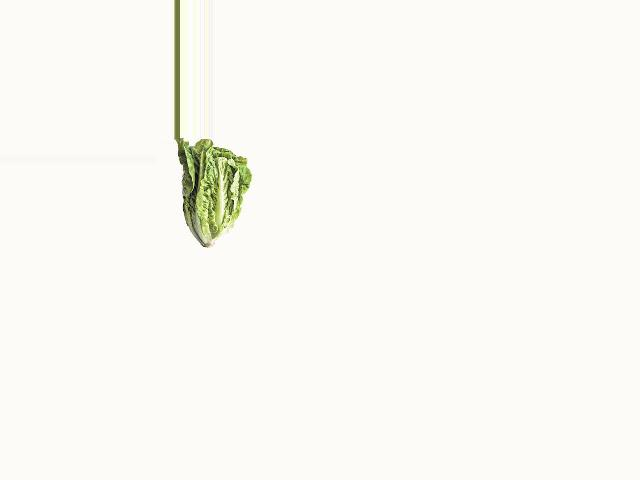lettuce: (177, 138, 255, 244)
